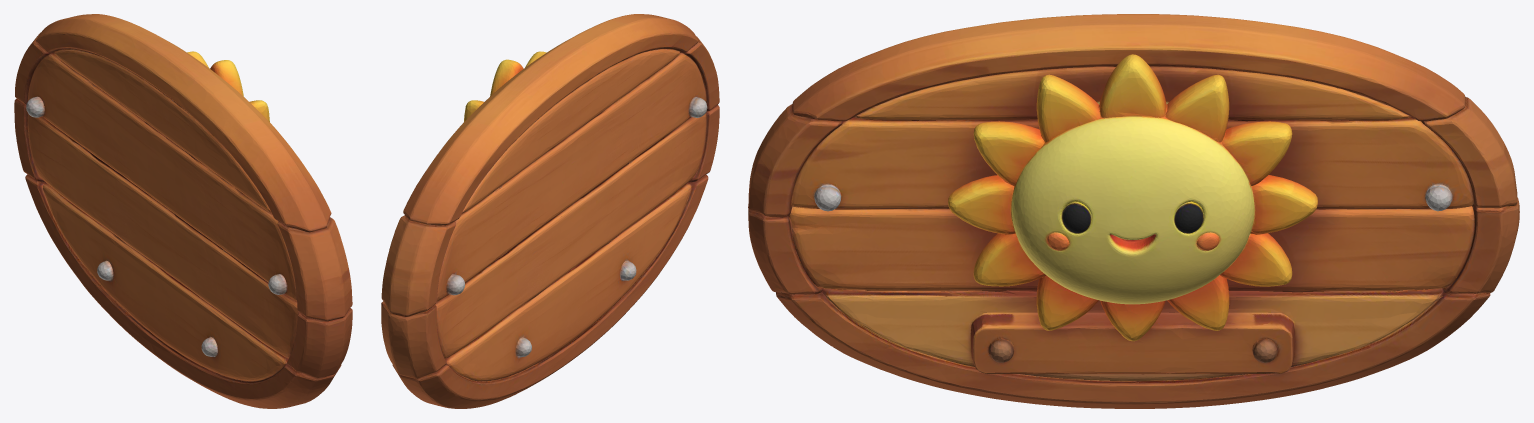
File: sign_5.glb
3 views of the same model, side by side, from view 1: azimuth 30°, elevation 25°; view 2: azimuth 150°, elevation 25°; view 3: azimuth 270°, elevation 25° (orthographic). The views are drawn at different scales.
Parts seen in each view (by area): view 1: tripo_node_23b744a6-c074-4010-9920-7404bb0ca861; view 2: tripo_node_23b744a6-c074-4010-9920-7404bb0ca861; view 3: tripo_node_23b744a6-c074-4010-9920-7404bb0ca861.
Part boxes in pixels (x1,y1,x2,y2): tripo_node_23b744a6-c074-4010-9920-7404bb0ca861: [14, 14, 352, 408]; tripo_node_23b744a6-c074-4010-9920-7404bb0ca861: [381, 14, 719, 408]; tripo_node_23b744a6-c074-4010-9920-7404bb0ca861: [748, 14, 1519, 408].
Size of the model in its own units: 0.2258 by 0.5497 by 1.
Materials: 1 (1 with a texture image).
